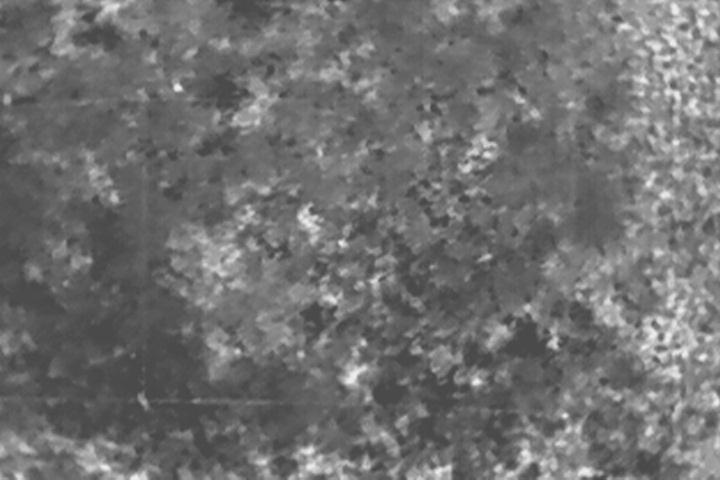landmine: (297, 201, 325, 228)
